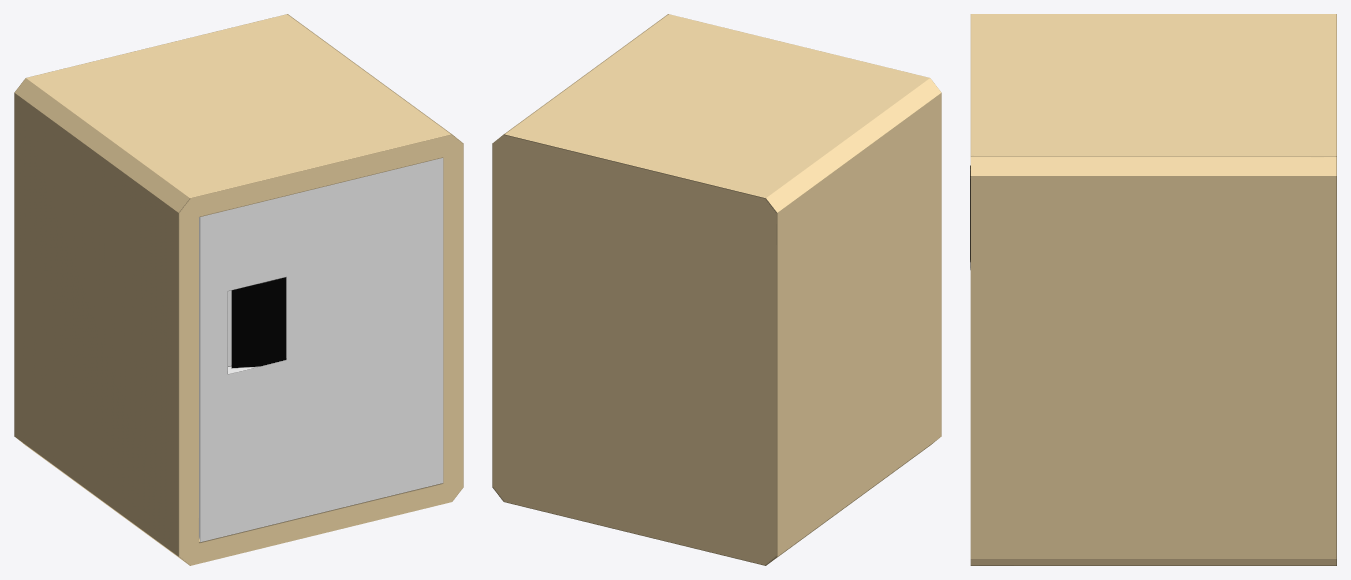
Rendered from cabinet.fbx.
The picture shows the model from 3 angles, left to right: view 1: azimuth 30°, elevation 25°; view 2: azimuth 150°, elevation 25°; view 3: azimuth 270°, elevation 25°; orthographic projection. The views are drawn at different scales.
Parts seen in each view (by area): view 1: Cube; view 2: Cube; view 3: Cube.
Boxes of the visible parts, x1,y1,x2,y2 form: Cube: [14, 14, 463, 565]; Cube: [492, 14, 941, 565]; Cube: [970, 14, 1336, 565].
Bounding box in the file's own units: 0.36 × 0.444 × 0.3606.
